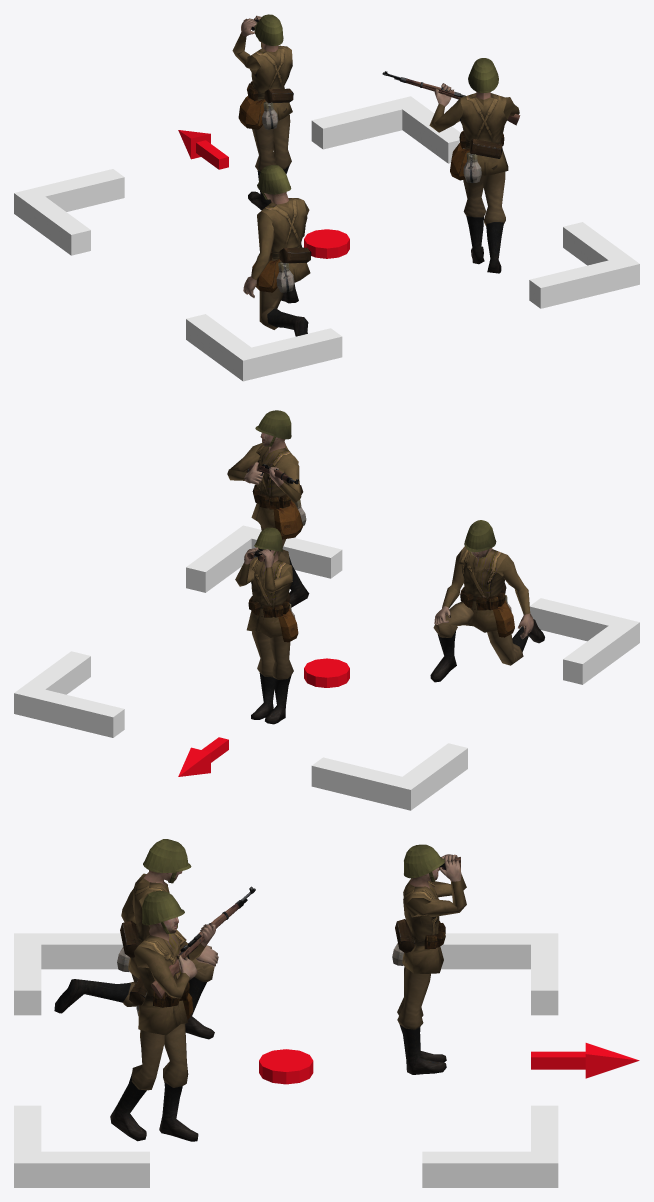
File: cf_sov_fo.obj
3 views of the same model, one above another, from view 1: azimuth 30°, elevation 25°; view 2: azimuth 150°, elevation 25°; view 3: azimuth 270°, elevation 25° (orthographic). The views are drawn at different scales.
Parts seen in each view (by area): view 1: i_frame_Cube.002, german_rigged, cat_Mesh.005, german_rigged.007, pointer_Cylinder, arrow_Cube; view 2: i_frame_Cube.002, cat_Mesh.005, german_rigged.007, german_rigged, pointer_Cylinder, arrow_Cube; view 3: i_frame_Cube.002, german_rigged, german_rigged.007, cat_Mesh.005, arrow_Cube, pointer_Cylinder.
Part boxes in pixels (x1,y1,x2,y2): i_frame_Cube.002: (14,96,639,381); german_rigged: (382,58,520,273); cat_Mesh.005: (243,165,311,336); german_rigged.007: (232,14,293,210); pointer_Cylinder: (304,229,349,258); arrow_Cube: (178,130,228,169); i_frame_Cube.002: (14,525,639,810); cat_Mesh.005: (430,520,544,682); german_rigged.007: (235,527,298,724); german_rigged: (227,410,309,607); pointer_Cylinder: (304,658,349,687); arrow_Cube: (178,737,228,776); i_frame_Cube.002: (14,933,558,1187); german_rigged: (110,886,255,1141); german_rigged.007: (392,844,466,1074); cat_Mesh.005: (54,839,218,1039); arrow_Cube: (531,1043,639,1078); pointer_Cylinder: (259,1049,313,1084).
Size of the model in its own units: 4 by 2.02 by 4.6.
Materials: 2 (2 with a texture image).
